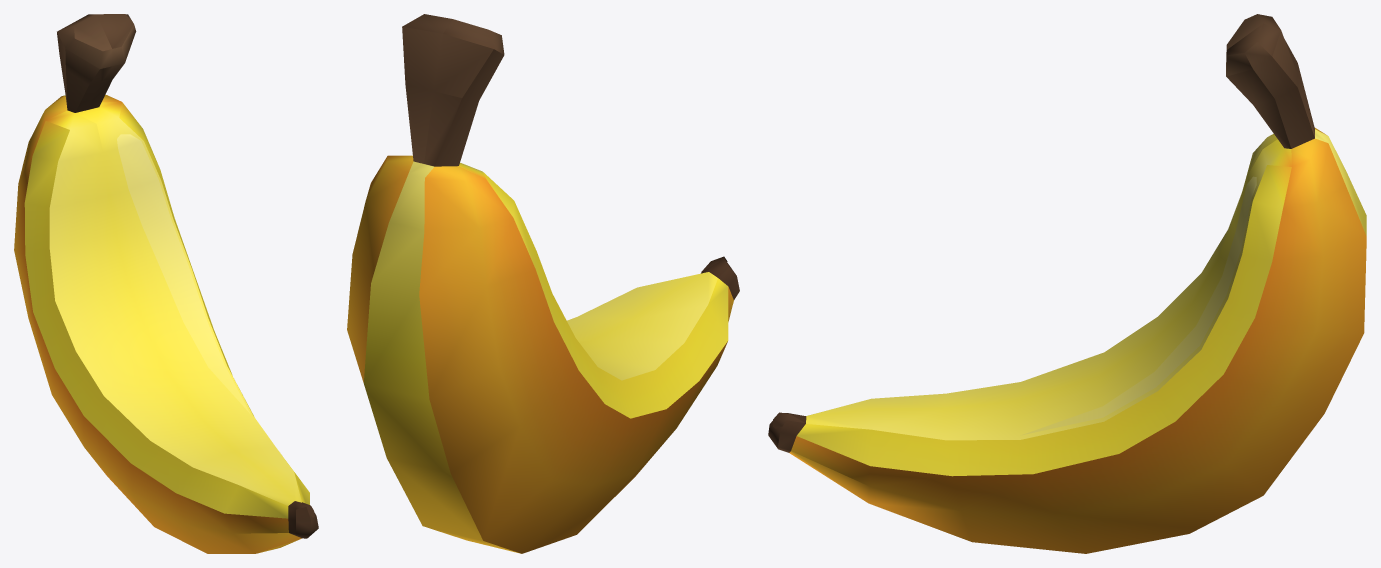
Rendered from Banana.fbx.
The picture shows the model from 3 angles, left to right: view 1: azimuth 30°, elevation 25°; view 2: azimuth 150°, elevation 25°; view 3: azimuth 270°, elevation 25°; orthographic projection. The views are drawn at different scales.
Parts seen in each view (by area): view 1: Banana; view 2: Banana; view 3: Banana.
Part boxes in pixels (x1,y1,x2,y2): Banana: (14,14,318,553); Banana: (347,14,739,553); Banana: (768,14,1366,553).
Size of the model in its own units: 1.13 by 3.04 by 3.17.
